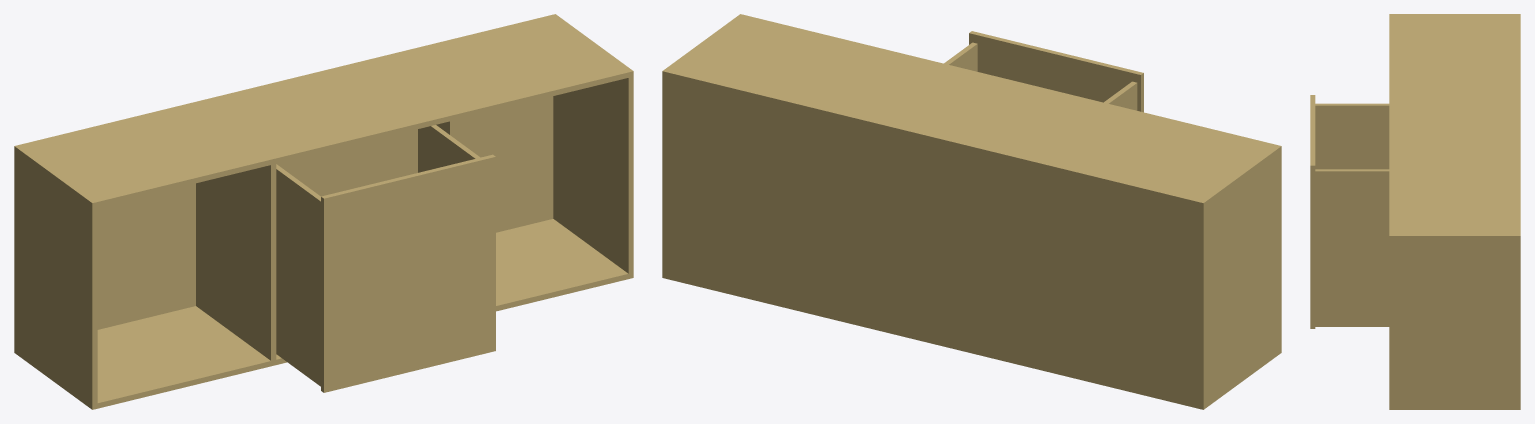
Rendered from meuble_691311d4bc0b3.glb.
3 views of the same model, side by side, from view 1: azimuth 30°, elevation 25°; view 2: azimuth 150°, elevation 25°; view 3: azimuth 270°, elevation 25° (orthographic). The views are drawn at different scales.
Visible parts, largest first — view 1: world; view 2: world; view 3: world.
Boxes of the visible parts, box(x1,y1,x2,y2) form: world: box(14, 14, 633, 409); world: box(662, 14, 1281, 409); world: box(1310, 14, 1520, 409).
Bounding box in the file's own units: 2 × 0.73 × 0.8.
